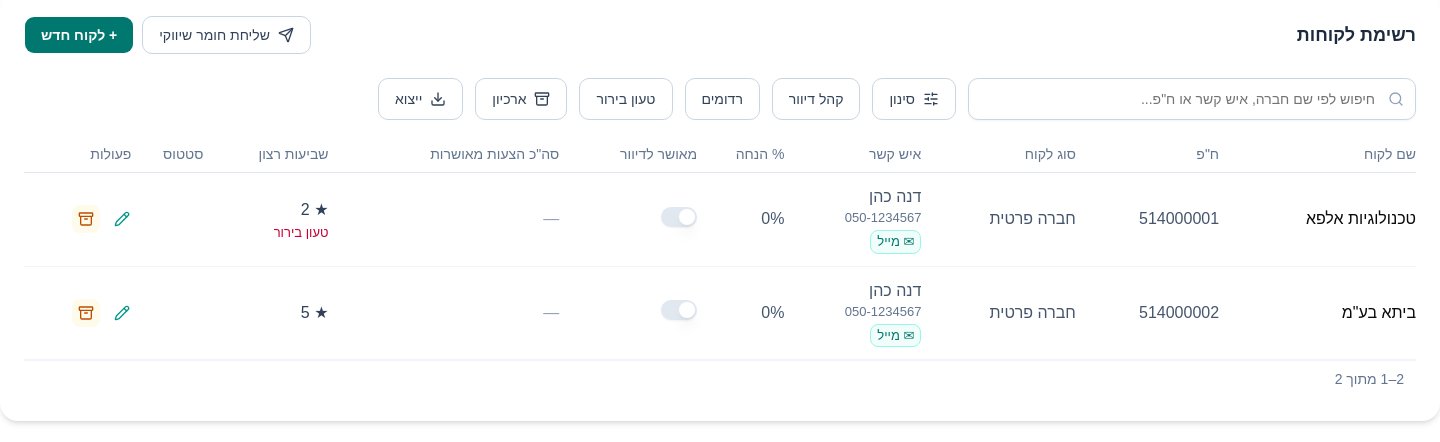
Test: רשימת-הלקוחות — צ'יפ "טעון בירור" (A3) › מסנן ללקוחות שמתחת לסף, ולחיצה שנייה מכבה
Expected: the row with test id "customer-row-1" is shown, left=24, top=172, right=1416, bottom=266
Expected: the row with test id "customer-row-2" is shown, left=24, top=266, right=1416, bottom=360
Click the button with test id "customers-preset-low-satisfaction" at (626, 99), box left=580, top=78, right=673, bottom=120
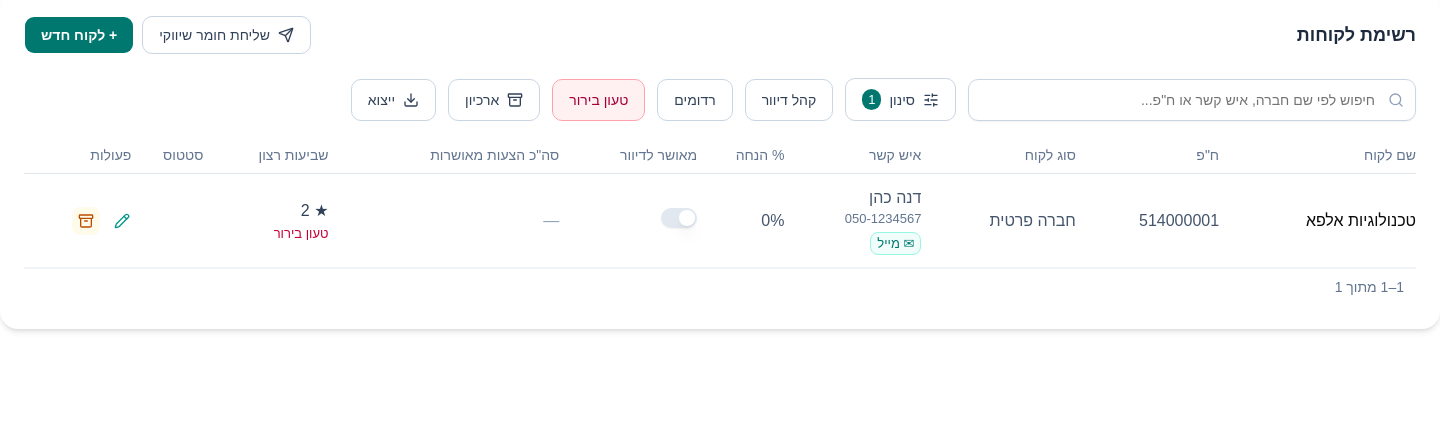
Expected: the row with test id "customer-row-1" is shown, left=24, top=174, right=1416, bottom=268
Expected: the row with test id "customer-row-2" is gone
Click the button with test id "customers-preset-low-satisfaction" at (599, 100), box left=552, top=79, right=645, bottom=121
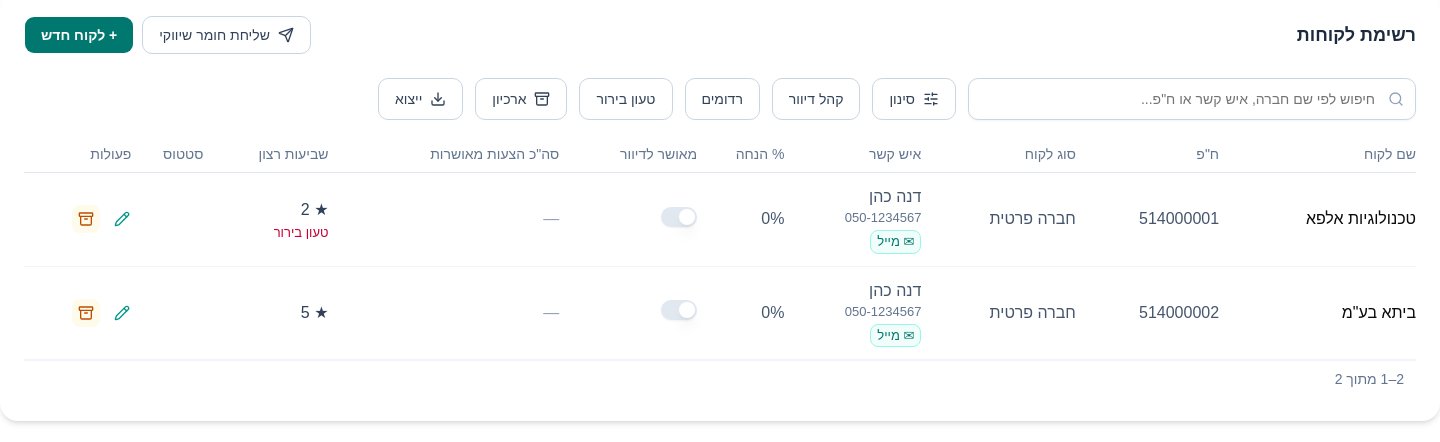
Expected: the row with test id "customer-row-2" is shown, left=24, top=266, right=1416, bottom=360
